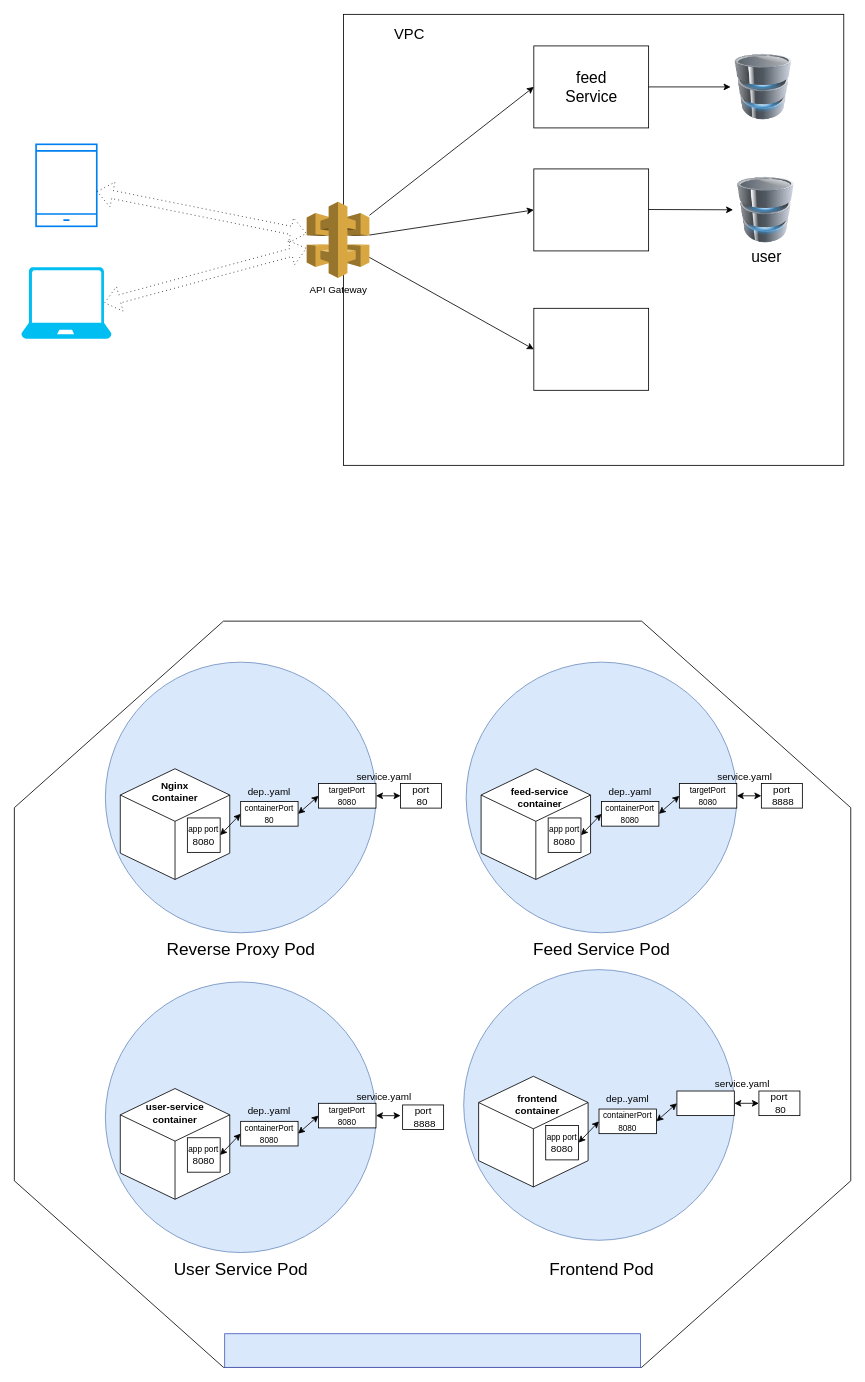
Image size: 865x1382. Some labels were removed from this diagram. Each missing label, with the centre of its shape:
feed: point 763,86
frontend: point 591,349
Kubelet: point 432,1350
targetPort 80: point 705,1103
user Service: point 591,209
